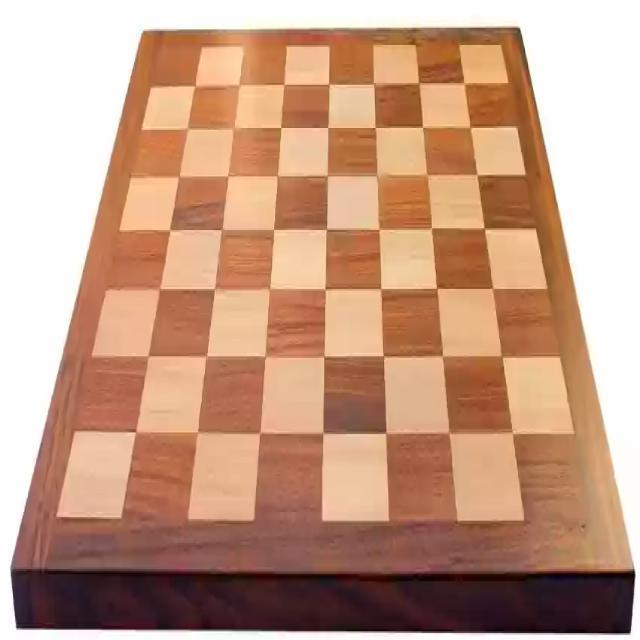chess-table-corners: (45, 488, 73, 546), (491, 28, 516, 71)
